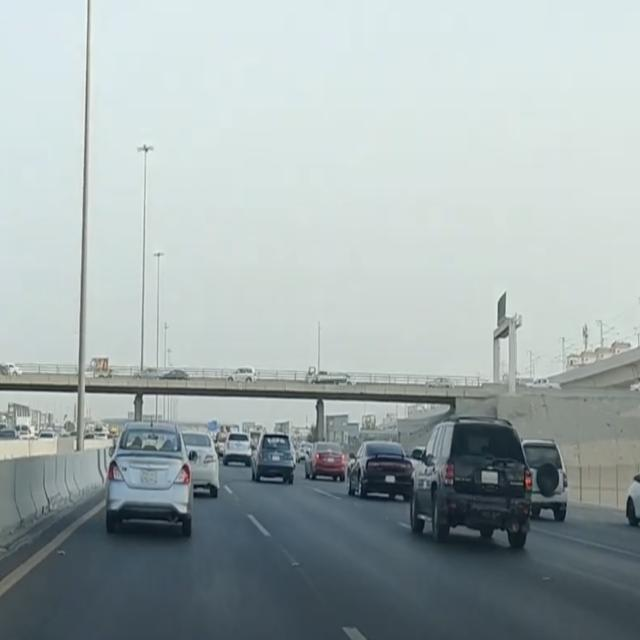license_plate: (140, 469, 158, 486), (481, 471, 499, 485), (386, 476, 396, 483), (271, 456, 280, 462), (328, 458, 334, 463), (236, 445, 242, 449)
